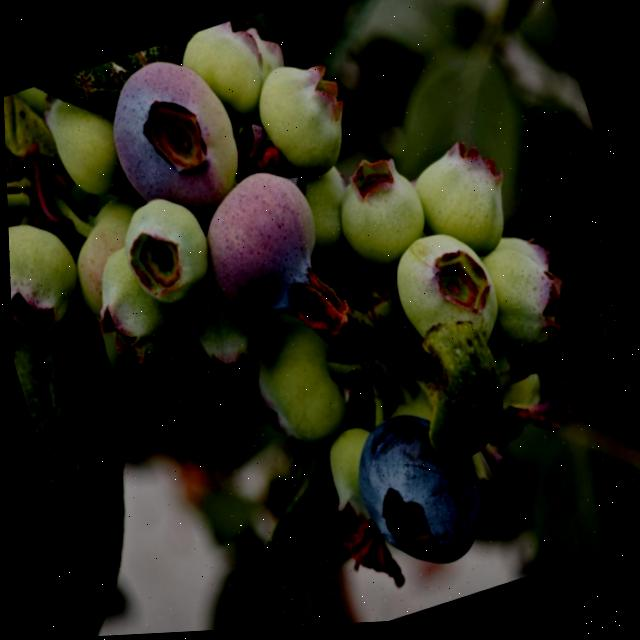RipeBlueBerry: (335, 385, 512, 592)
Semi-RipeBlueBerry: (82, 30, 263, 234), (177, 144, 351, 351)
UnripeBlueBerry: (376, 211, 519, 372), (240, 40, 369, 190), (106, 177, 229, 319), (317, 140, 442, 278), (6, 200, 102, 352)
